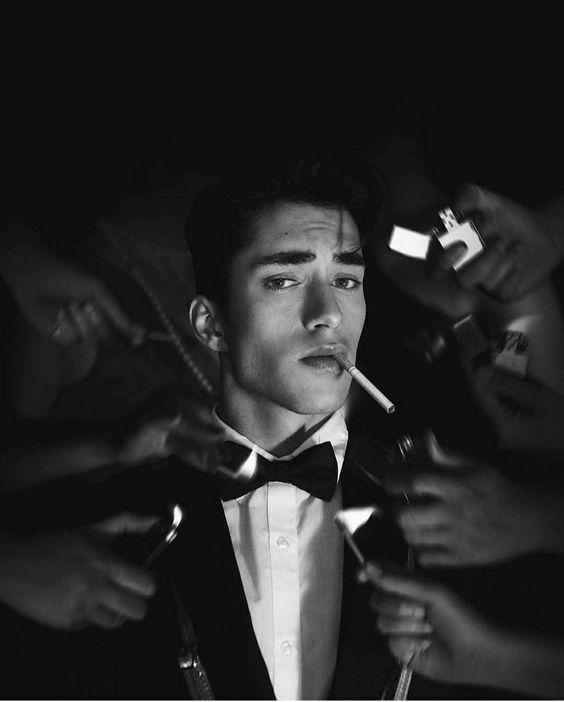cigarette: (331, 352, 396, 414)
